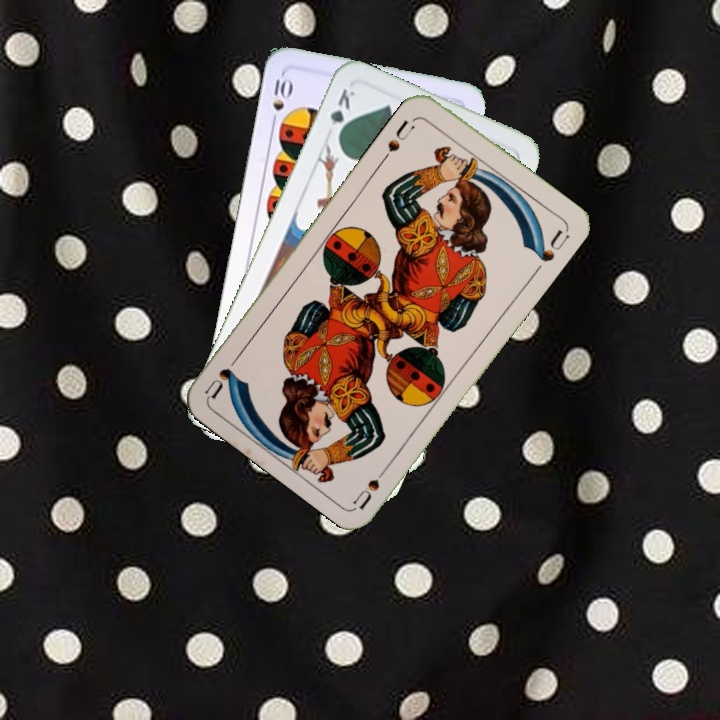GK: (326, 84, 358, 142)
S10: (267, 71, 294, 129)
SU: (350, 457, 394, 511), (378, 116, 417, 164)
